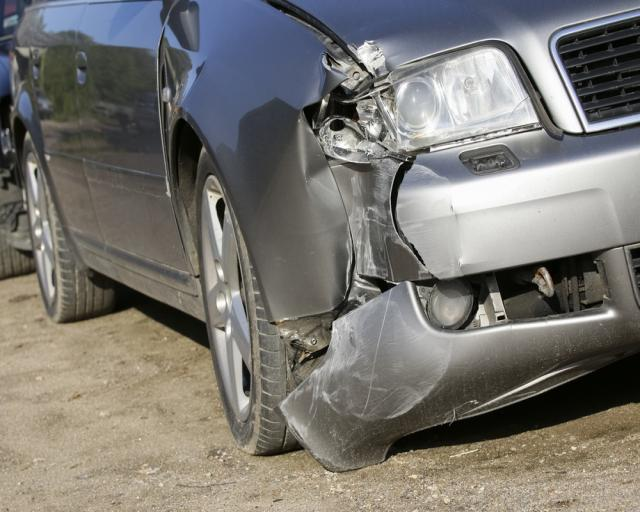crack: (390, 155, 439, 279)
dent: (301, 111, 348, 301), (310, 60, 333, 102)
lamp broken: (339, 40, 544, 157)
scratch: (280, 287, 454, 443), (397, 163, 464, 279), (348, 158, 409, 282), (345, 37, 388, 75), (345, 220, 353, 297)
